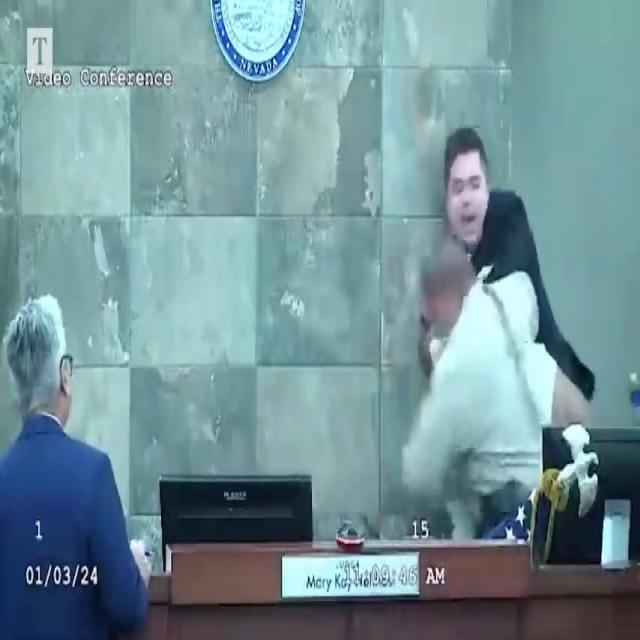fight: (396, 111, 612, 542)
non-fight: (0, 287, 152, 640)
